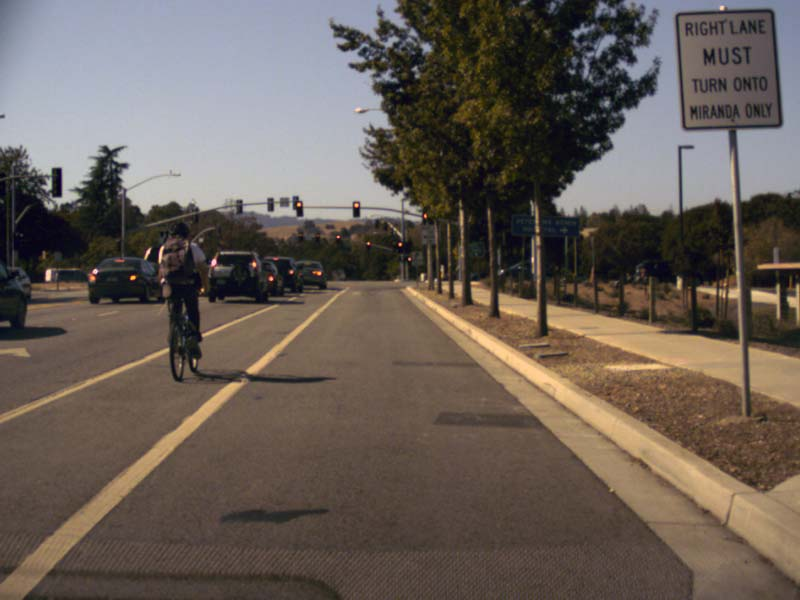Red: (295, 201, 303, 217), (352, 201, 359, 217), (396, 241, 403, 253), (406, 257, 411, 269), (335, 234, 341, 244), (365, 240, 371, 250), (422, 212, 426, 226), (298, 232, 302, 242), (315, 233, 319, 243)
